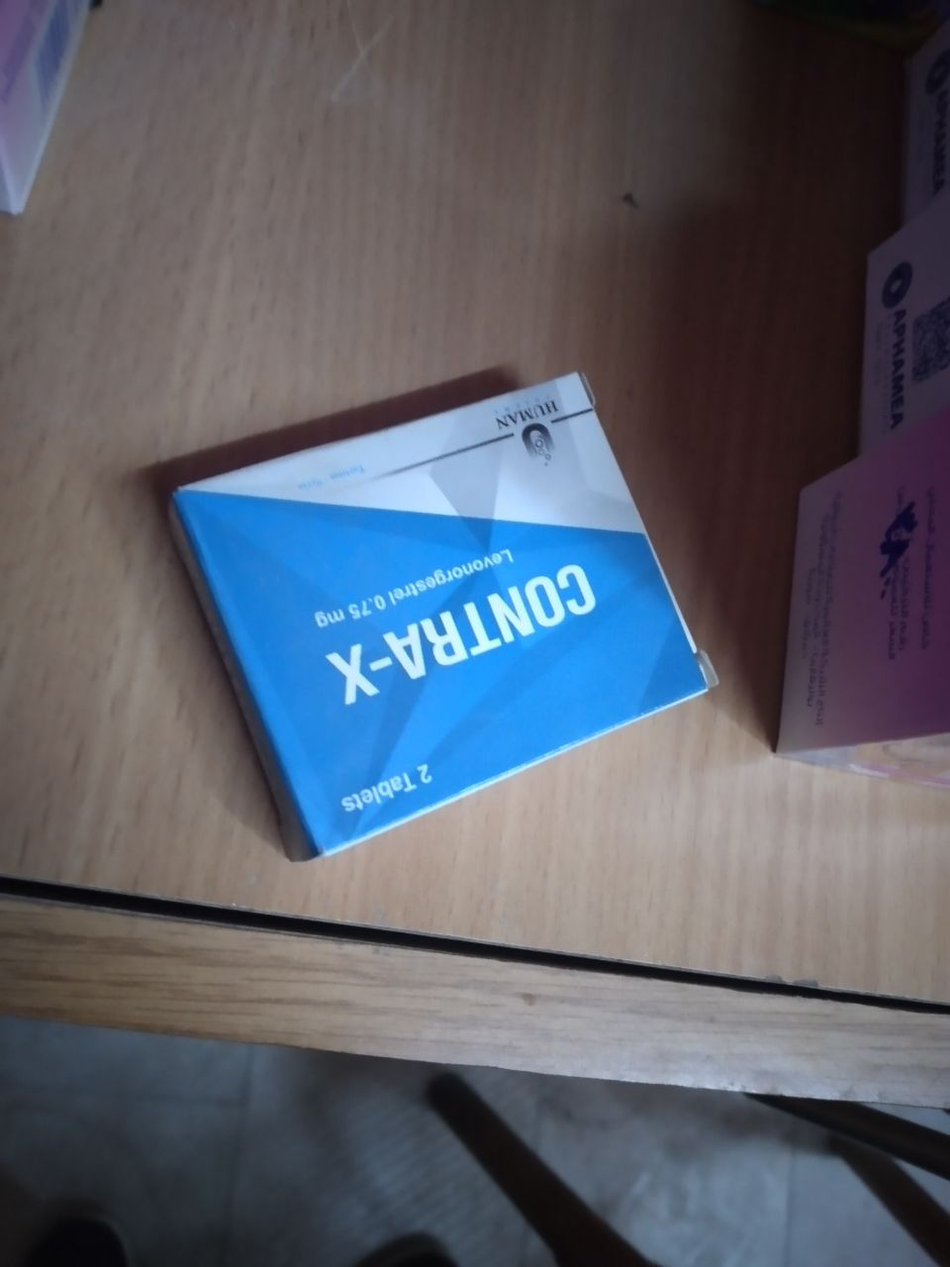Medicine: (145, 353, 726, 878), (759, 439, 950, 798), (844, 211, 950, 459)
